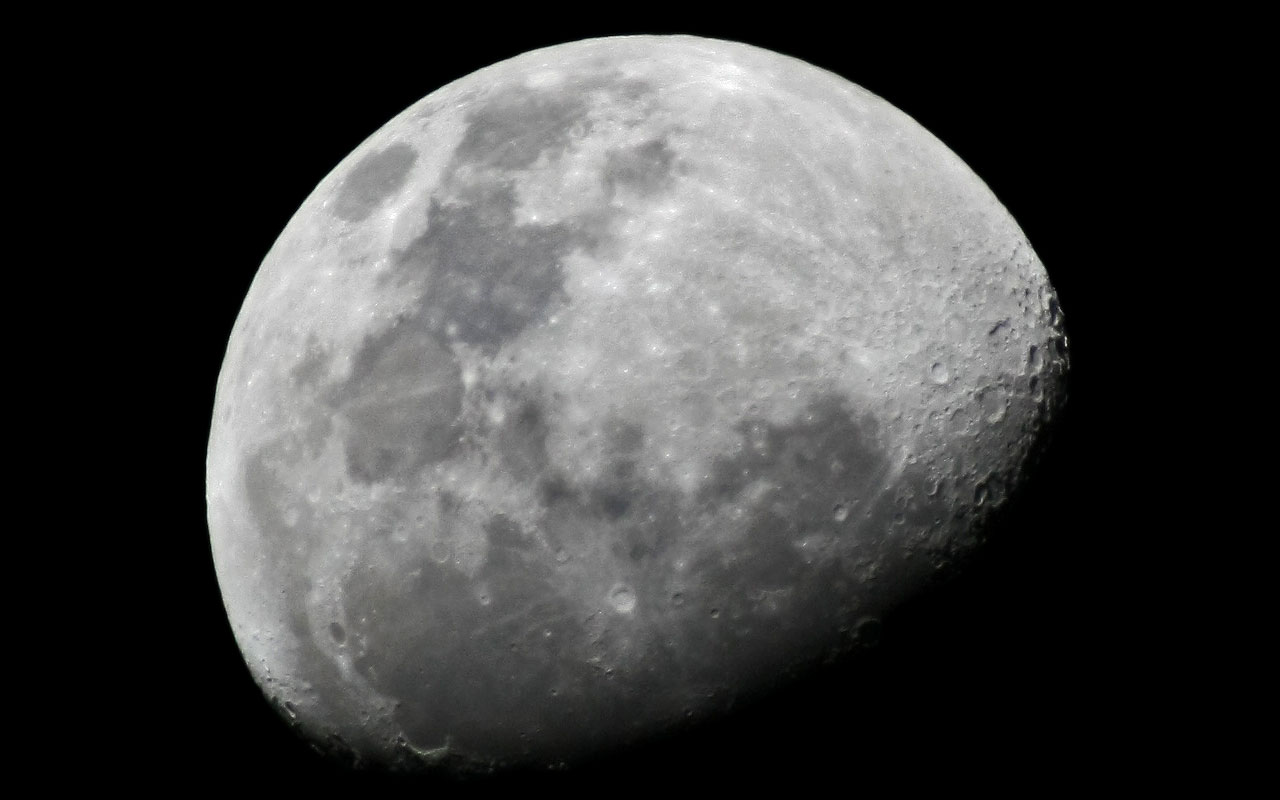crater: (313, 607, 381, 676), (588, 560, 643, 634), (975, 316, 1034, 381), (964, 372, 1016, 428), (420, 528, 466, 587), (918, 346, 966, 399), (777, 375, 812, 414), (820, 501, 854, 531), (666, 585, 693, 616), (741, 397, 761, 419)
